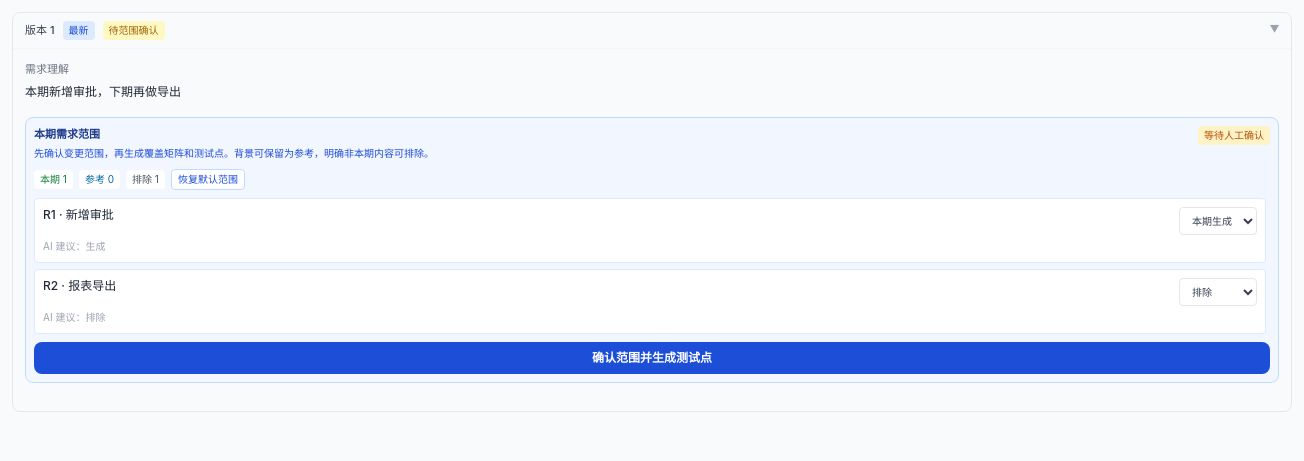
Test case: AnalysisPanel - 测试点标签 › 明确不在本期的需求默认进入排除且可填写人工调整原因
Select "本期生成" in the dropdown named "需求范围-R2": (1218, 292) top-left (1179, 278), bottom-right (1257, 306)
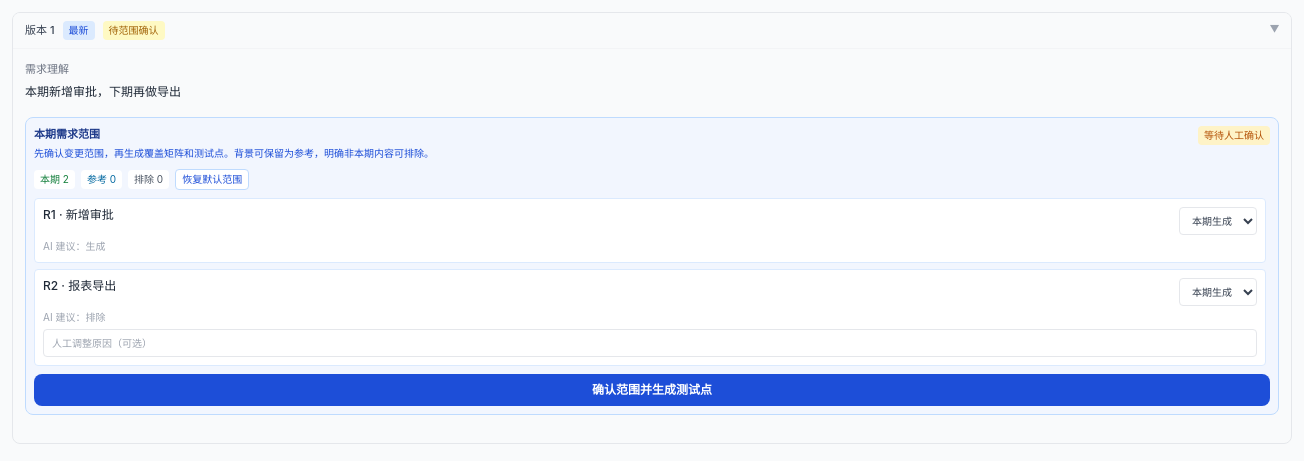
Result: the field with placeholder "人工调整原因（可选）" is shown at top-left (43, 328), bottom-right (1257, 356)
